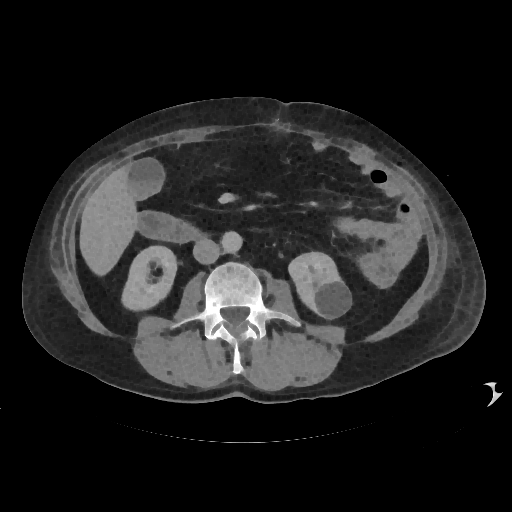Lesion: (309, 280, 356, 321)
